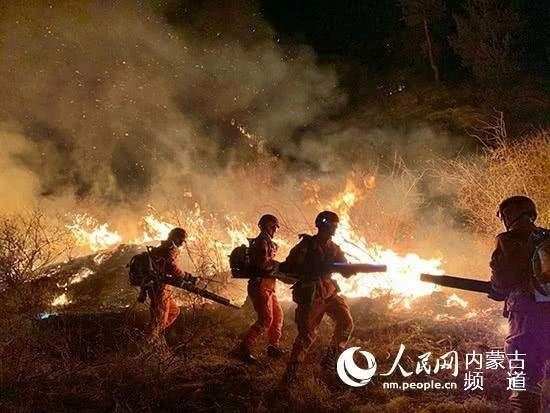fire: (323, 177, 450, 304)
